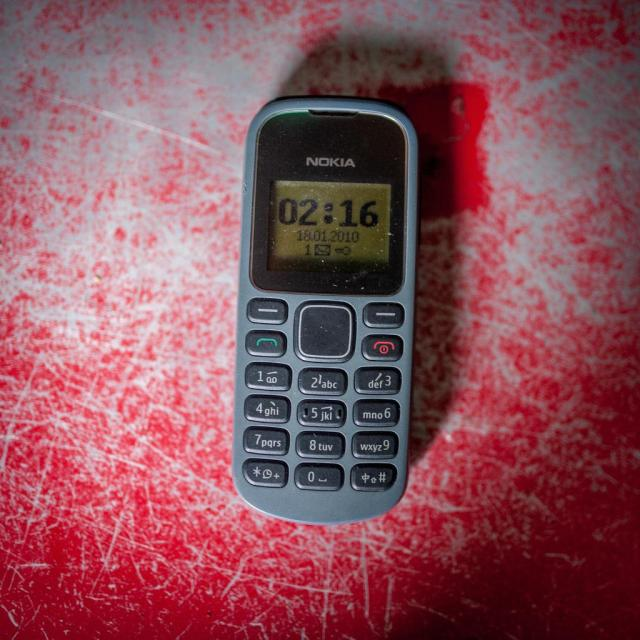Phone: (231, 96, 424, 525)
